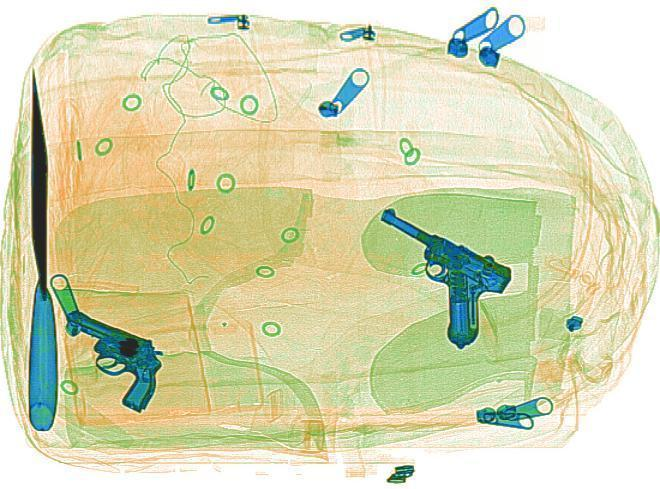Gun: (311, 205, 536, 348), (22, 304, 194, 413)
Knife: (21, 65, 56, 431)
